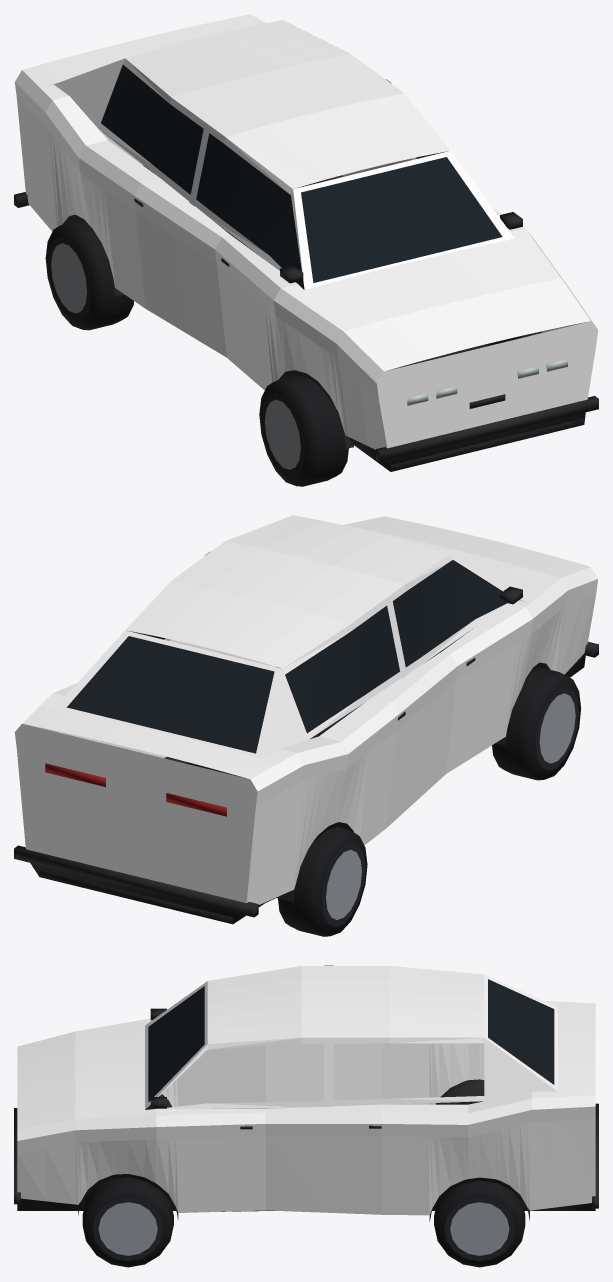
Rendered from ridgeway_sertao.glb.
3 views of the same model, one above another, from view 1: azimuth 30°, elevation 25°; view 2: azimuth 150°, elevation 25°; view 3: azimuth 270°, elevation 25° (orthographic). The views are drawn at different scales.
Parts seen in each view (by area): view 1: Body_Paint, Body_Details, Mount_FrontLeft_Wheel_Details, Mount_RearLeft_Wheel_Details; view 2: Body_Paint, Body_Details, Mount_FrontLeft_Wheel_Details, Mount_RearLeft_Wheel_Details; view 3: Body_Paint, Body_Details, Mount_FrontRight_Wheel_Details, Mount_RearRight_Wheel_Details.
Boxes of the visible parts, <box> form: Body_Paint: <box>14,14,597,449</box>; Body_Details: <box>14,64,598,471</box>; Mount_FrontLeft_Wheel_Details: <box>259,375,348,486</box>; Mount_RearLeft_Wheel_Details: <box>45,219,133,330</box>; Body_Paint: <box>14,515,597,904</box>; Body_Details: <box>14,560,598,924</box>; Mount_FrontLeft_Wheel_Details: <box>492,667,580,780</box>; Mount_RearLeft_Wheel_Details: <box>278,826,367,936</box>; Body_Paint: <box>17,965,595,1215</box>; Body_Details: <box>14,979,598,1221</box>; Mount_FrontRight_Wheel_Details: <box>82,1177,173,1267</box>; Mount_RearRight_Wheel_Details: <box>434,1180,525,1267</box>.
Size of the model in its own units: 2.09 by 1.9 by 4.68.
Materials: 2 (1 with a texture image).
